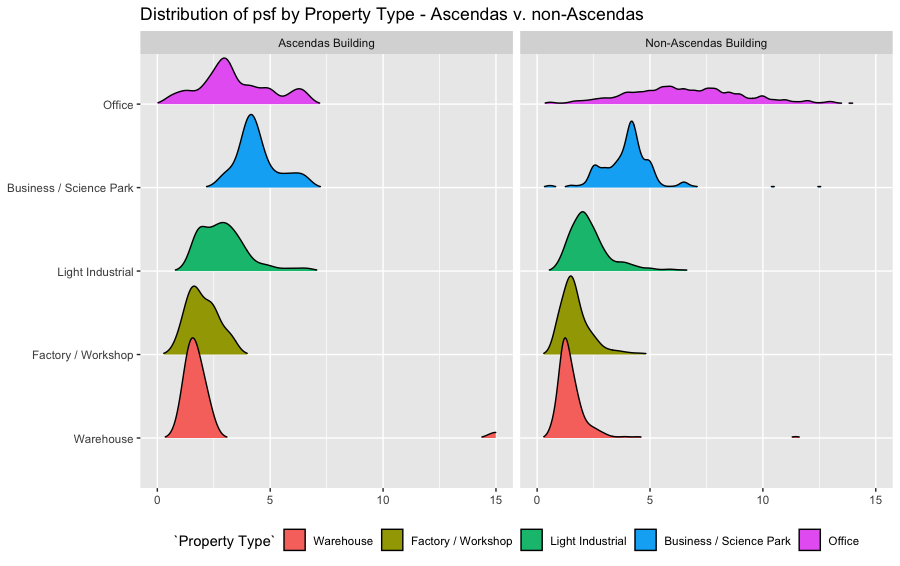

This screenshot's page, from the dashboard's own definition file:
{"tool":"tableau","page":{"name":"Dashboard 2","canvas":[1000,1000],"units":"permille","ordinal":1},"visuals":[{"type":"worksheet","title":"Split","mark":"Circle","rows":["Ascendas_Building","lat"],"cols":["lon"],"box":[4.7,8.5,897,983]},{"type":"filter","title":"Split","param":"[federated.1927uhd1qy7aqd1f6aa2719t1xgz].[none:lease:nk]","box":[901.7,8.5,93.6,195.1]},{"type":"legend","title":"Split","param":"[federated.1927uhd1qy7aqd1f6aa2719t1xgz].[none:Property Type:nk]","box":[901.7,203.6,93.6,133.6]},{"type":"legend","title":"Split","param":"[federated.1927uhd1qy7aqd1f6aa2719t1xgz].[none:psf:qk]","box":[901.7,337.2,93.6,133.6]}]}

Visuals, with their boxes on the dashboard's canvas, which has no fixed pixel size, in thousandths of its width and height (x1, y1, x2, y2). These are canvas units, not pixel positions in the 900x566 screenshot, which may show the page scaled, cropped or inside an application window:
"Split" worksheet (Circle marks): detection(5, 8, 902, 992)
"Split" filter: detection(902, 8, 995, 204)
"Split" legend: detection(902, 204, 995, 337)
"Split" legend: detection(902, 337, 995, 471)
